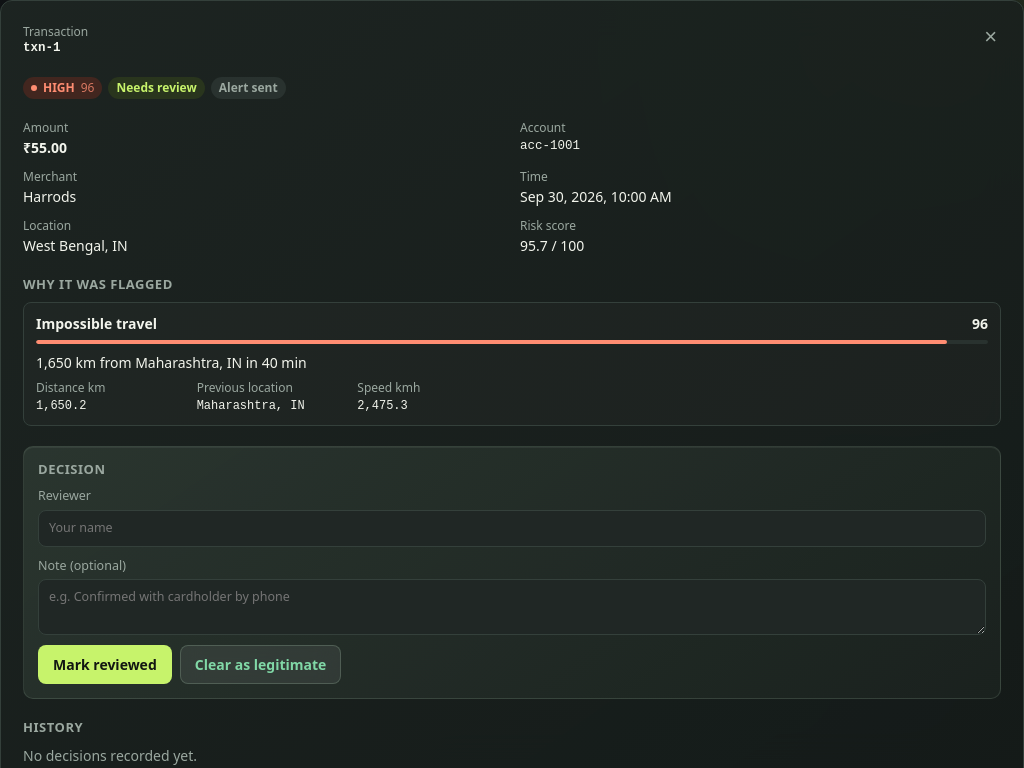
Test: TransactionDetail › submits the decision with trimmed reviewer and note, and remembers the reviewer
The width and height of the screenshot is (1024, 768).
Type "  Ana  " into the field labelled "Reviewer" at {"x": 512, "y": 528}, box [38, 510, 986, 547]
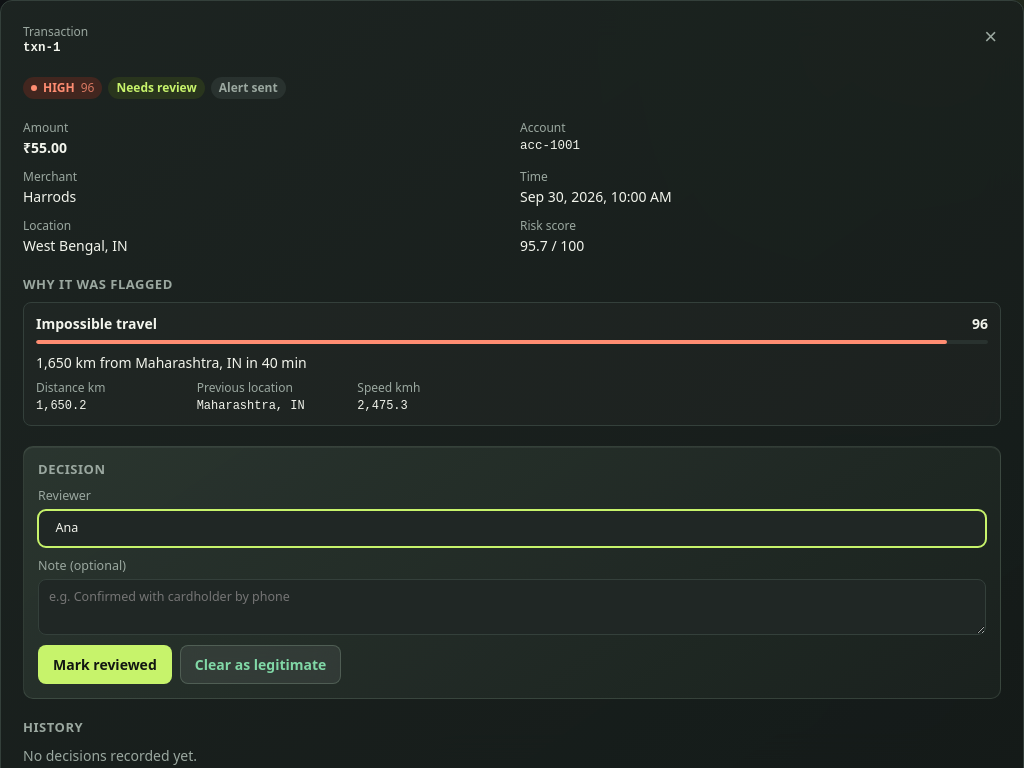
Type " Customer confirmed travel " into the text box labelled "Note (optional)" at {"x": 512, "y": 607}, box [38, 579, 986, 635]
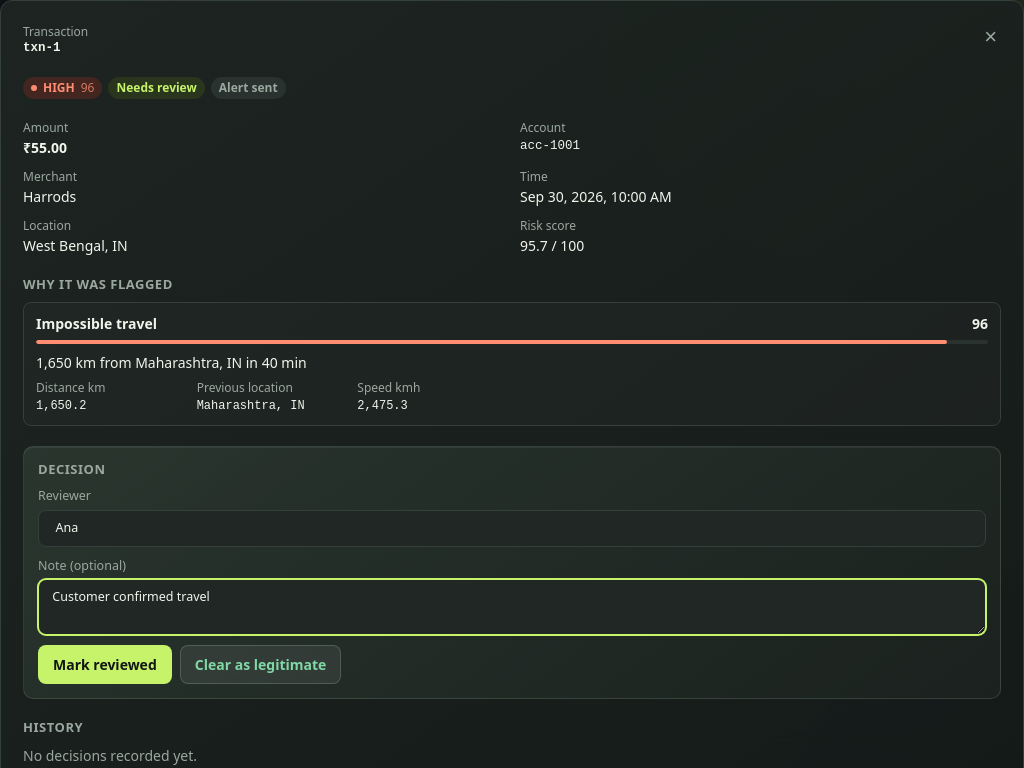
Click the button "Clear as legitimate" at {"x": 261, "y": 664}, box [180, 645, 341, 684]
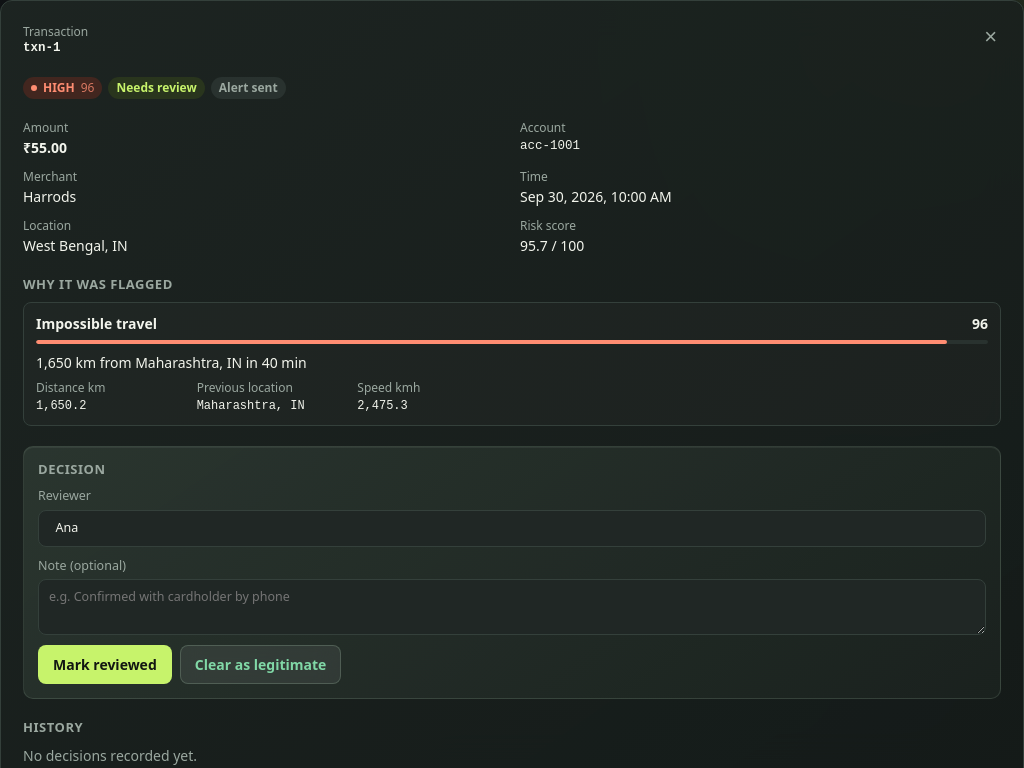
Check: the text box labelled "Note (optional)" is empty, box [38, 579, 986, 635]
